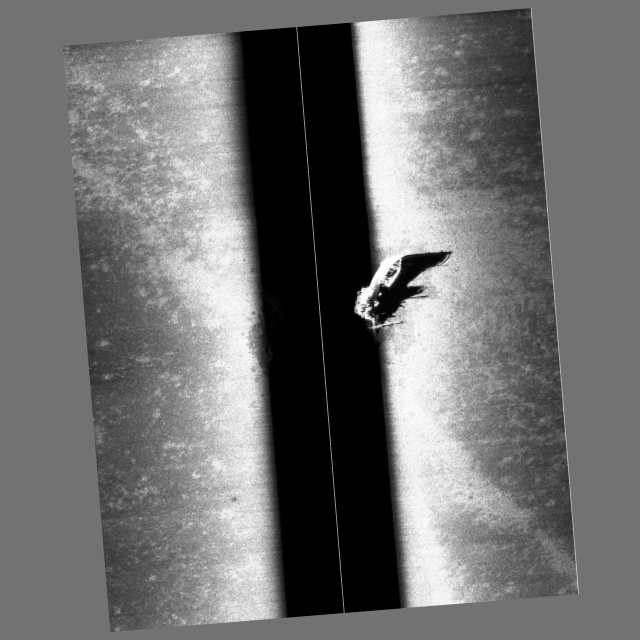Shipwreck: (348, 254, 409, 345)
